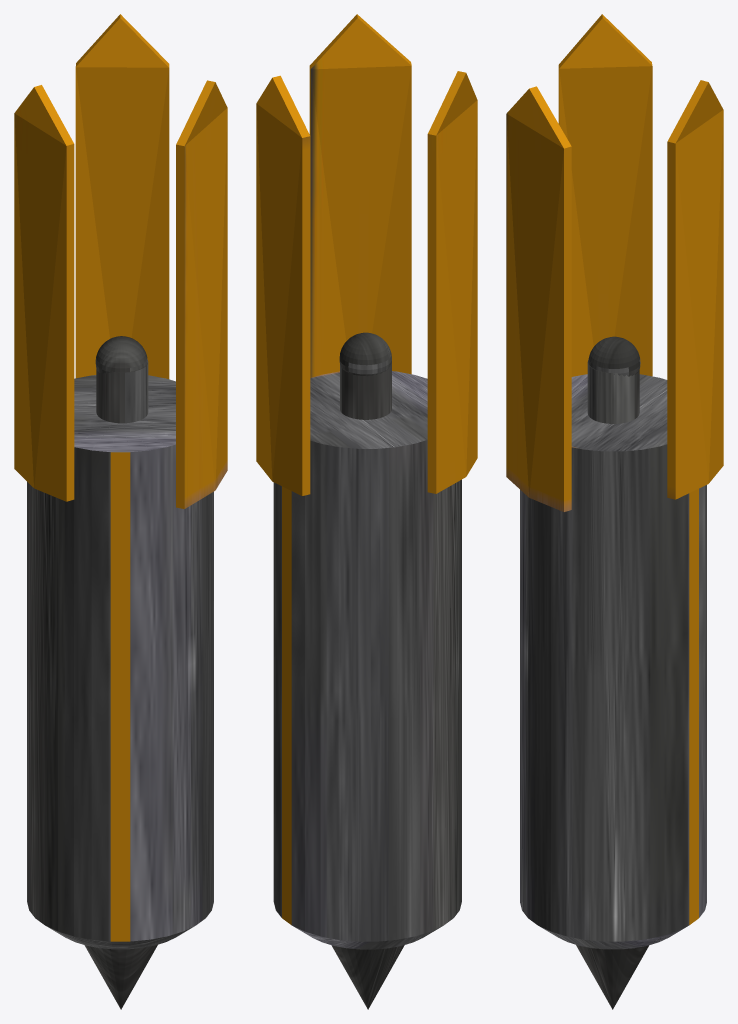
Rendered from engine.obj.
3 views of the same model, side by side, from view 1: azimuth 30°, elevation 25°; view 2: azimuth 150°, elevation 25°; view 3: azimuth 270°, elevation 25° (orthographic).
Parts seen in each view (by area): view 1: Cube.002_Cube.011; view 2: Cube.002_Cube.011; view 3: Cube.002_Cube.011.
Boxes of the visible parts, box(x1,y1,x2,y2) form: Cube.002_Cube.011: box(14, 14, 227, 1009); Cube.002_Cube.011: box(256, 14, 477, 1009); Cube.002_Cube.011: box(506, 14, 723, 1009).
Size of the model in its own units: 1.08 by 5.61 by 1.16.
1 material, 1 textured.
